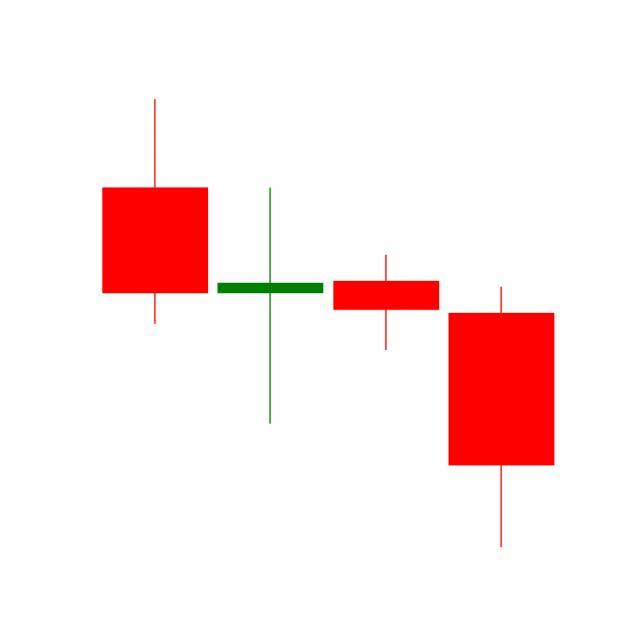Three Outside Up-Down: (211, 183, 555, 548)
